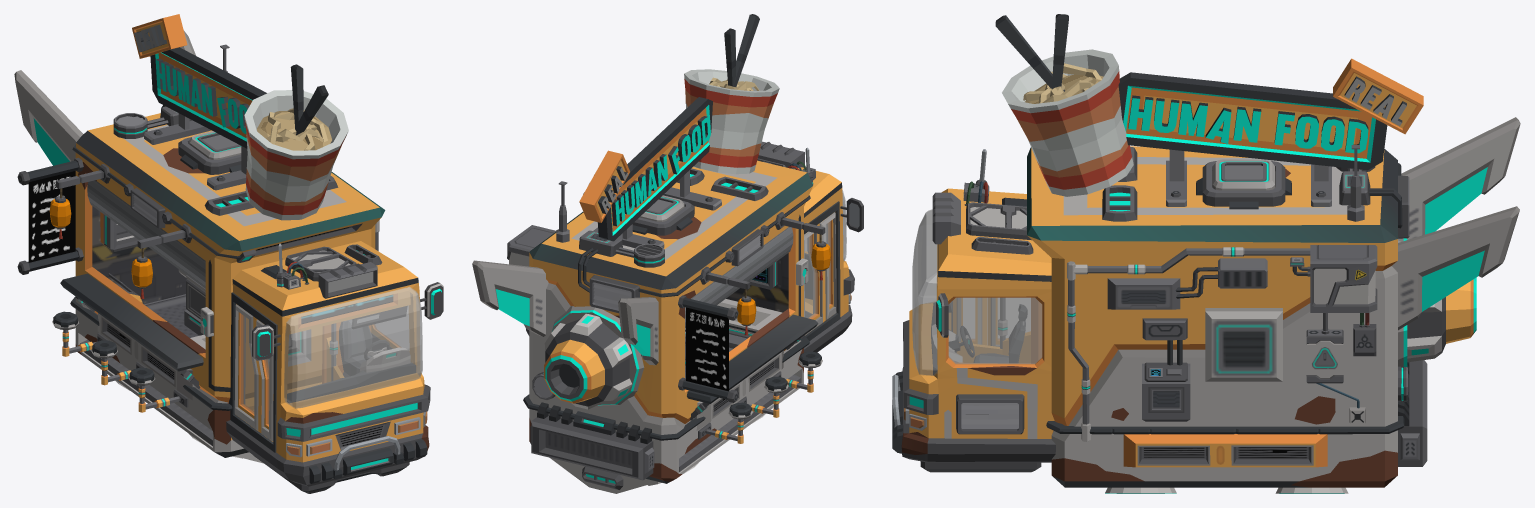
The model's file is SM_Veh_Food_Truck_01.fbx.
3 renders of one model, left to right at view 1: azimuth 30°, elevation 25°; view 2: azimuth 150°, elevation 25°; view 3: azimuth 270°, elevation 25°, orthographic. The views are drawn at different scales.
Visible parts, largest first — view 1: SM_Veh_Food_Truck_01, SM_Veh_Food_Truck_01_Door_L_Glass_01; view 2: SM_Veh_Food_Truck_01, SM_Veh_Food_Truck_01_Door_L_Glass_01; view 3: SM_Veh_Food_Truck_01.
Part boxes in pixels (x1=…): SM_Veh_Food_Truck_01: x1=14, y1=14, x2=443, y2=493; SM_Veh_Food_Truck_01_Door_L_Glass_01: x1=241, y1=314, x2=254, y2=413; SM_Veh_Food_Truck_01: x1=472, y1=14, x2=863, y2=493; SM_Veh_Food_Truck_01_Door_L_Glass_01: x1=804, y1=235, x2=817, y2=318; SM_Veh_Food_Truck_01: x1=892, y1=14, x2=1520, y2=493.
Size of the model in its own units: 495 by 763 by 927.
